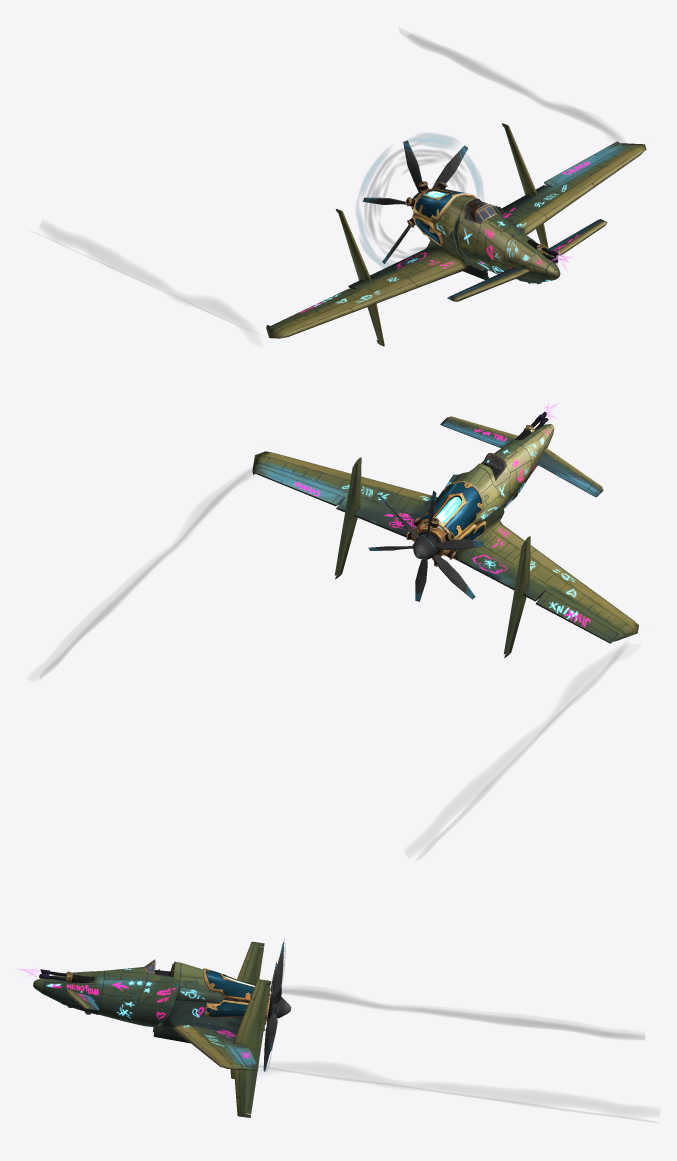
The model's file is dive_attacker.glb.
3 views of the same model, one above another, from view 1: azimuth 30°, elevation 25°; view 2: azimuth 150°, elevation 25°; view 3: azimuth 270°, elevation 25° (orthographic). The views are drawn at different scales.
Parts seen in each view (by area): view 1: SM_Plane, SM_Effects; view 2: SM_Plane, SM_Effects; view 3: SM_Plane, SM_Effects.
Part boxes in pixels (x1,y1,x2,y2): SM_Plane: (266,123,646,346); SM_Effects: (44,33,620,332); SM_Plane: (252,411,638,658); SM_Effects: (34,403,624,855); SM_Plane: (33,941,291,1117); SM_Effects: (19,939,653,1120).
Bounding box in the file's own units: 2.56 × 1.32 × 3.74.
2 materials, 2 textured.
